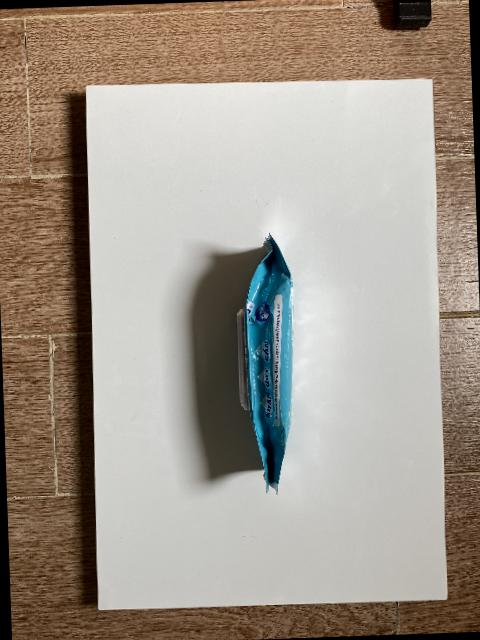Let-green_alcohol_wipes: (235, 231, 293, 493)
